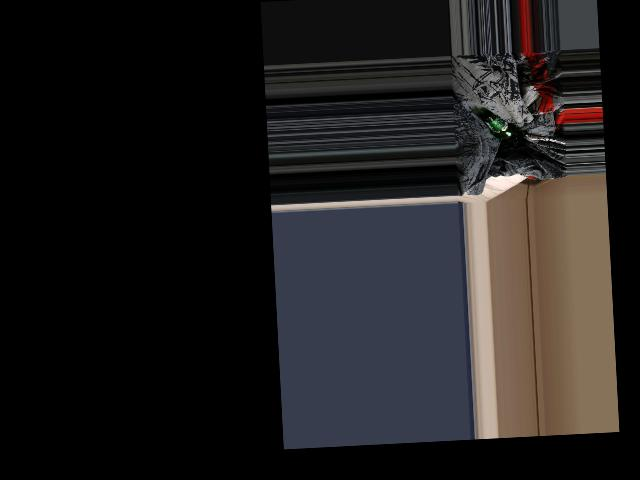beer: (480, 108, 526, 149)
